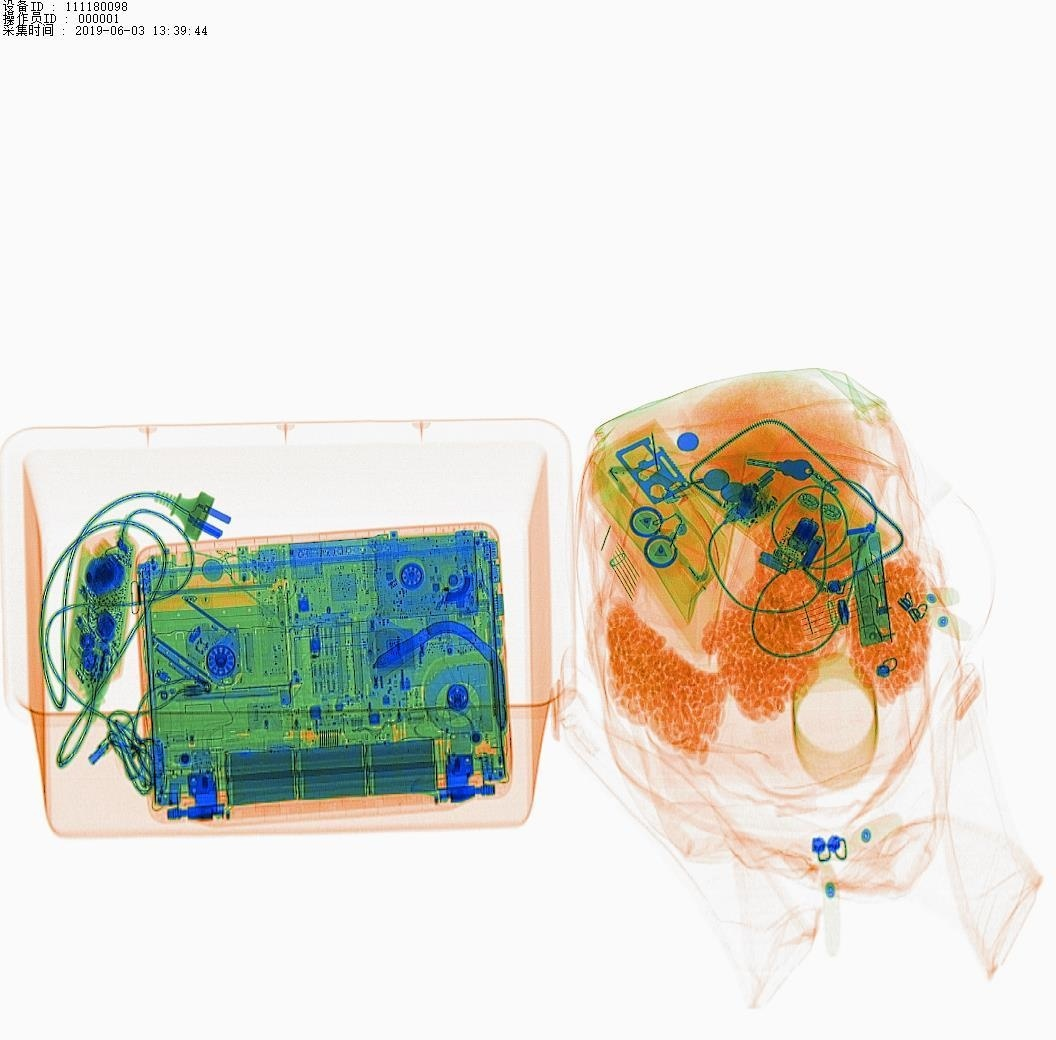NonmetallicFire: (659, 461, 768, 519)
